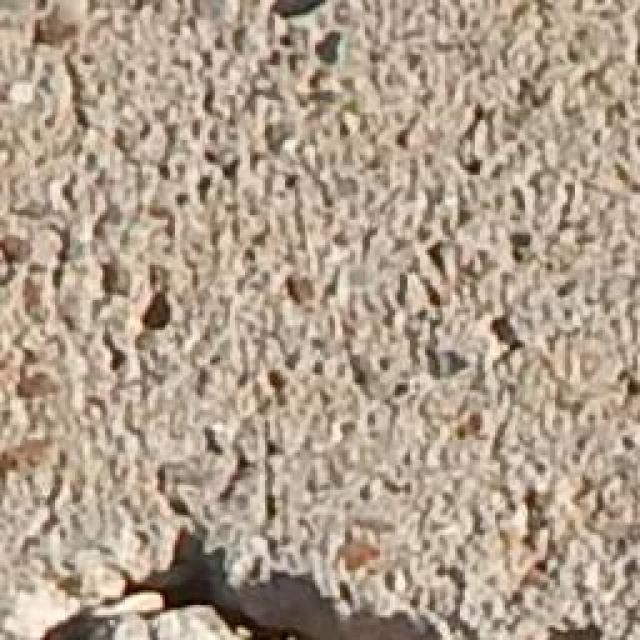concrete-crack: (31, 504, 632, 640)
